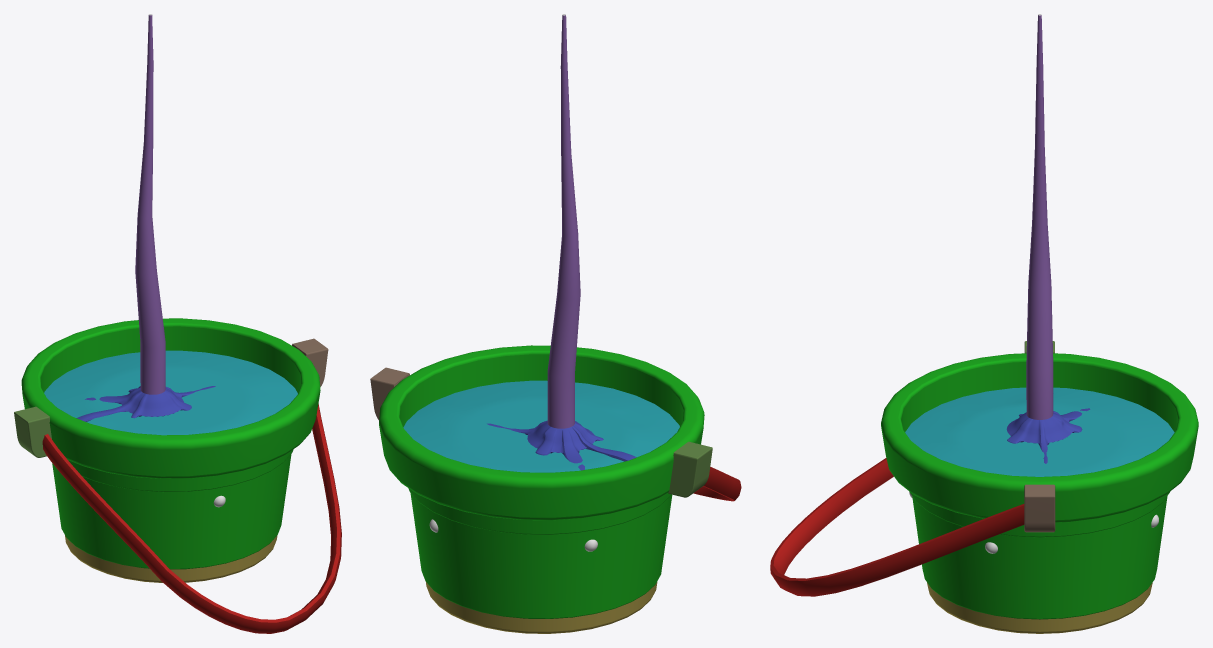
File: PottedPlant_Style_03.fbx
The picture shows the model from 3 angles, left to right: view 1: azimuth 30°, elevation 25°; view 2: azimuth 150°, elevation 25°; view 3: azimuth 270°, elevation 25°; orthographic projection. The views are drawn at different scales.
Parts seen in each view (by area): view 1: SetA_PottedPlant_Style_03; view 2: SetA_PottedPlant_Style_03; view 3: SetA_PottedPlant_Style_03.
Boxes of the visible parts, <box> form: SetA_PottedPlant_Style_03: <box>14,14,341,633</box>; SetA_PottedPlant_Style_03: <box>370,14,741,633</box>; SetA_PottedPlant_Style_03: <box>770,14,1198,633</box>.
Bounding box in the file's own units: 0.4428 × 0.7464 × 0.5154.
